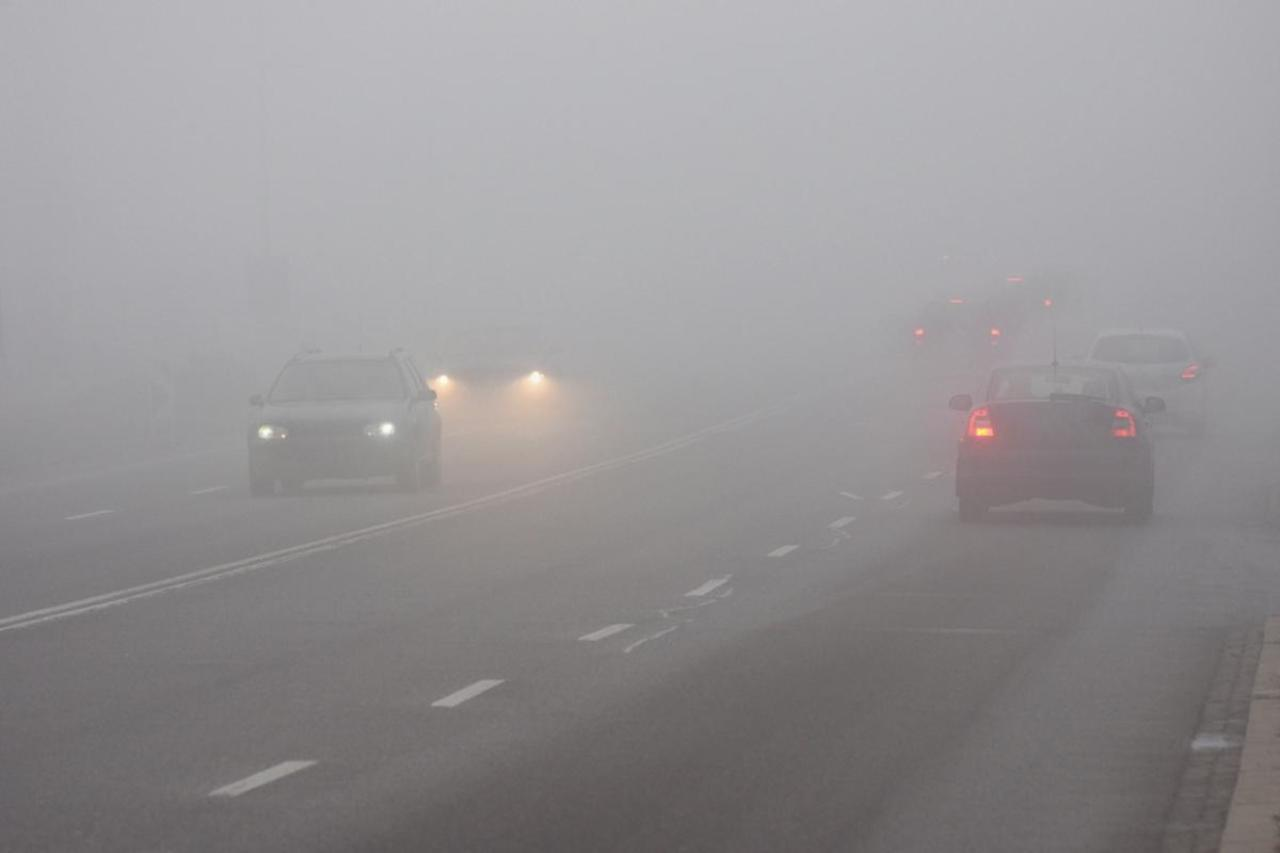car: (949, 369, 1162, 522), (242, 350, 442, 498), (426, 320, 569, 429), (1084, 327, 1200, 419), (909, 292, 1003, 367), (985, 266, 1063, 320)
